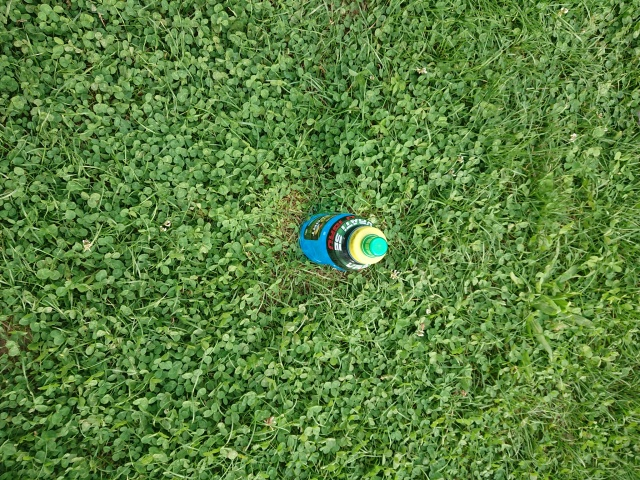Vindi Iso Sport Forest Strawberries 500mL: (296, 211, 389, 273)
